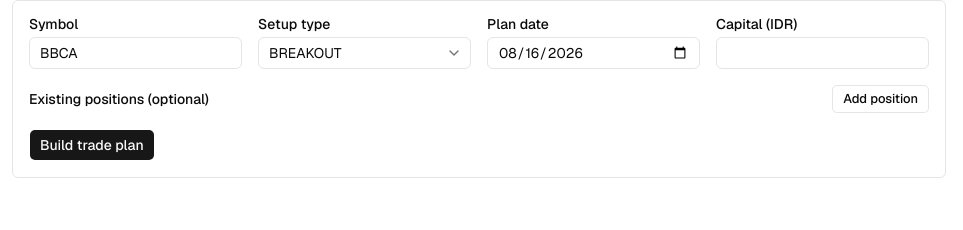
Test: TradePlanForm › shows a distinct error when the request itself fails
Type "100000000" into the number field labelled "Capital (IDR)" at (822, 53), box left=716, top=37, right=929, bottom=69
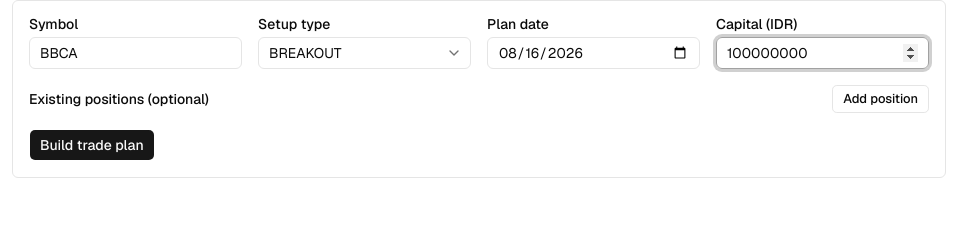
Click the button "Build trade plan" at (92, 145), box left=29, top=129, right=155, bottom=161
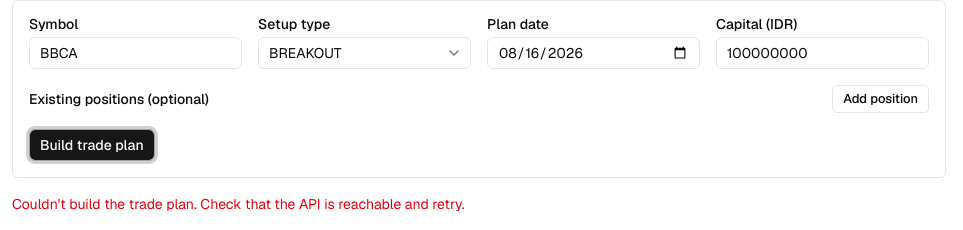
Check: the text "Couldn't build the trade plan. Check that the API is reachable and retry." is shown, box left=12, top=195, right=464, bottom=213
